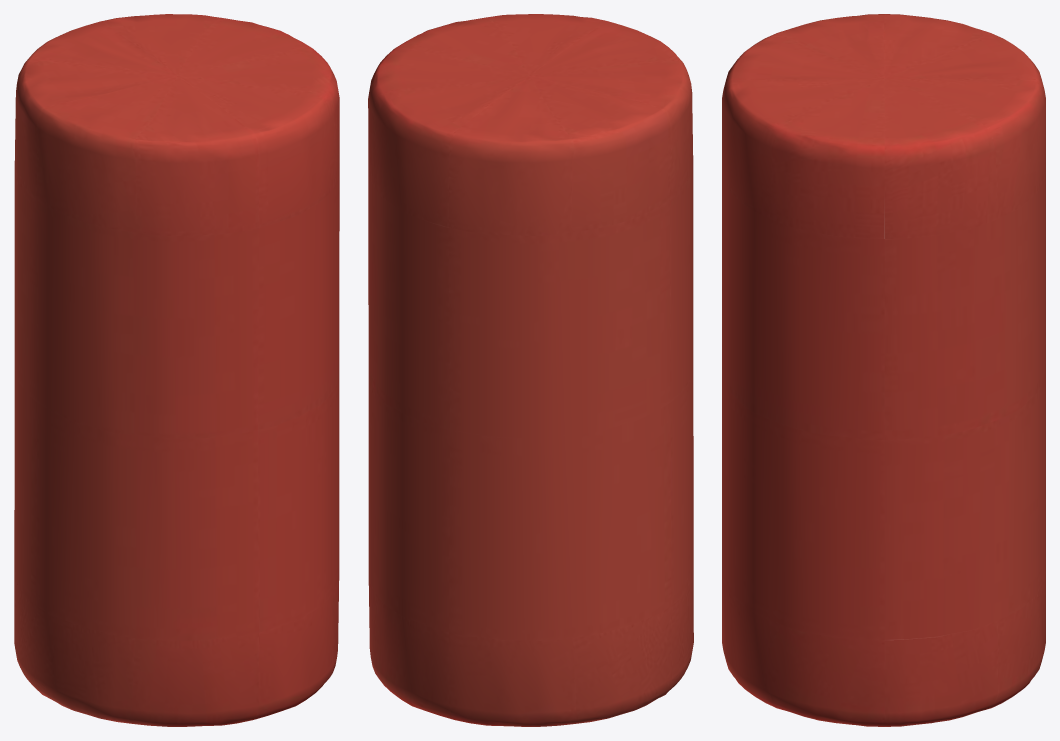
The model's file is block_red_cylinder.glb.
3 renders of one model, left to right at view 1: azimuth 30°, elevation 25°; view 2: azimuth 150°, elevation 25°; view 3: azimuth 270°, elevation 25°, orthographic.
Visible parts, largest first — view 1: red_cylinder_block__export_tmp; view 2: red_cylinder_block__export_tmp; view 3: red_cylinder_block__export_tmp.
Boxes of the visible parts, <box> form: red_cylinder_block__export_tmp: <box>14,14,339,726</box>; red_cylinder_block__export_tmp: <box>368,14,693,726</box>; red_cylinder_block__export_tmp: <box>722,14,1045,726</box>.
Bounding box in the file's own units: 1.35 × 2.7 × 1.35.
1 material, 1 textured.
